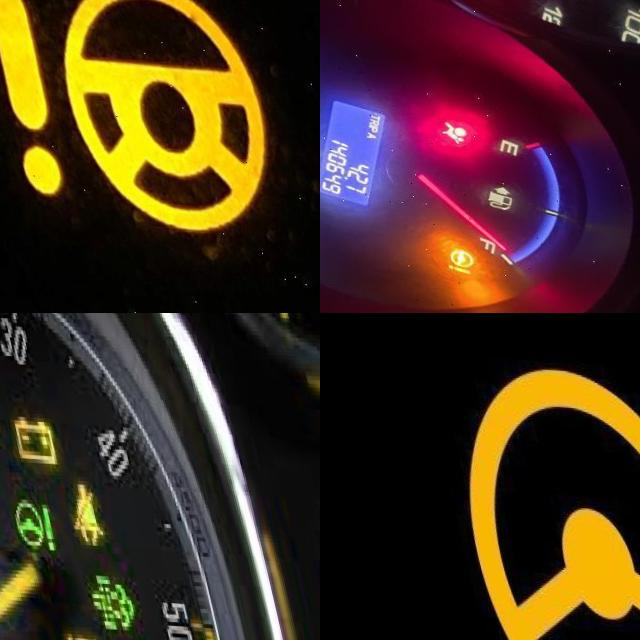Electronic Power Steering: (433, 357, 640, 640)
Electronic Power Steering Warning: (0, 0, 270, 234), (416, 237, 461, 273)
Seat Belt: (49, 476, 97, 546)
